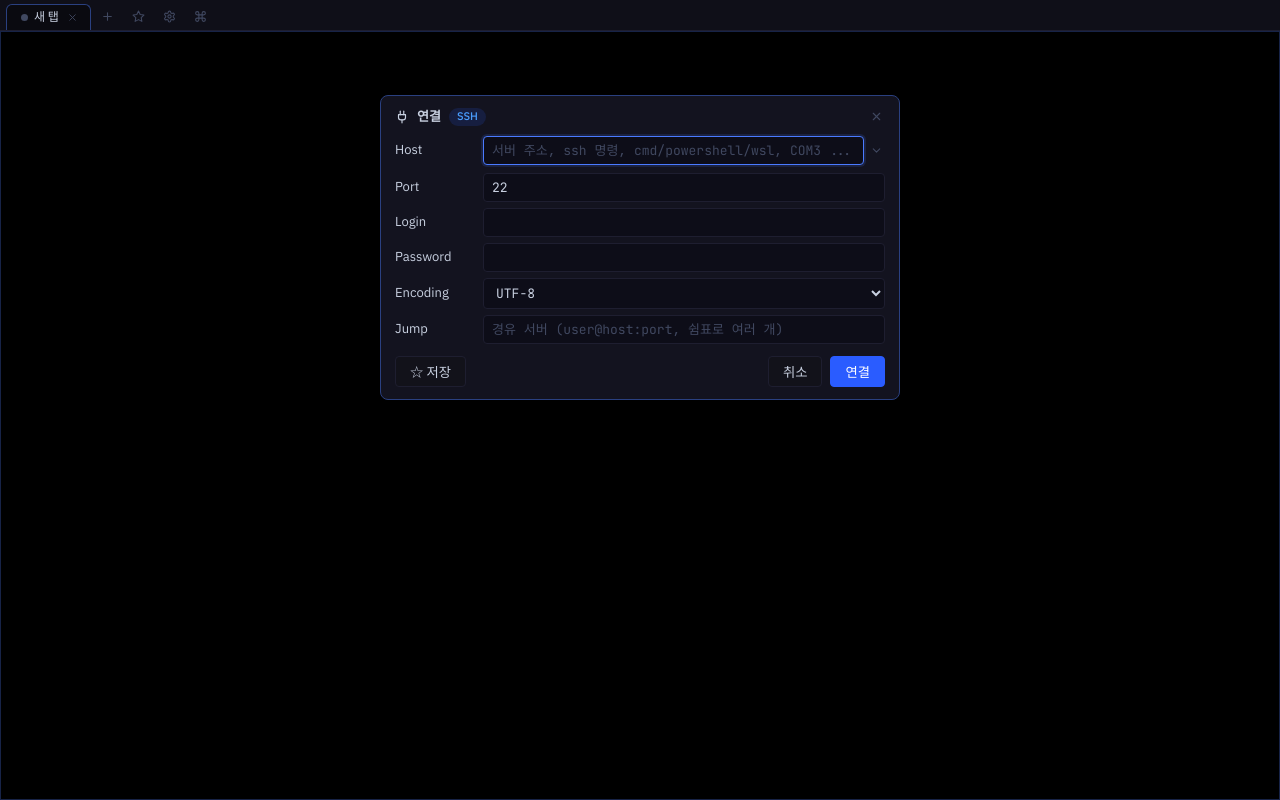
Test: 세션 관리자 (SM) › SM-06: 복제 → "(복사)" 세션 저장 후 선택
Check: the field labelled "Host" is shown, box [483,136,864,165]
Press H in the element showing "새 탭 연결 SSH Host Port Login Password Encoding Jump ☆ 저장 취소 연결"
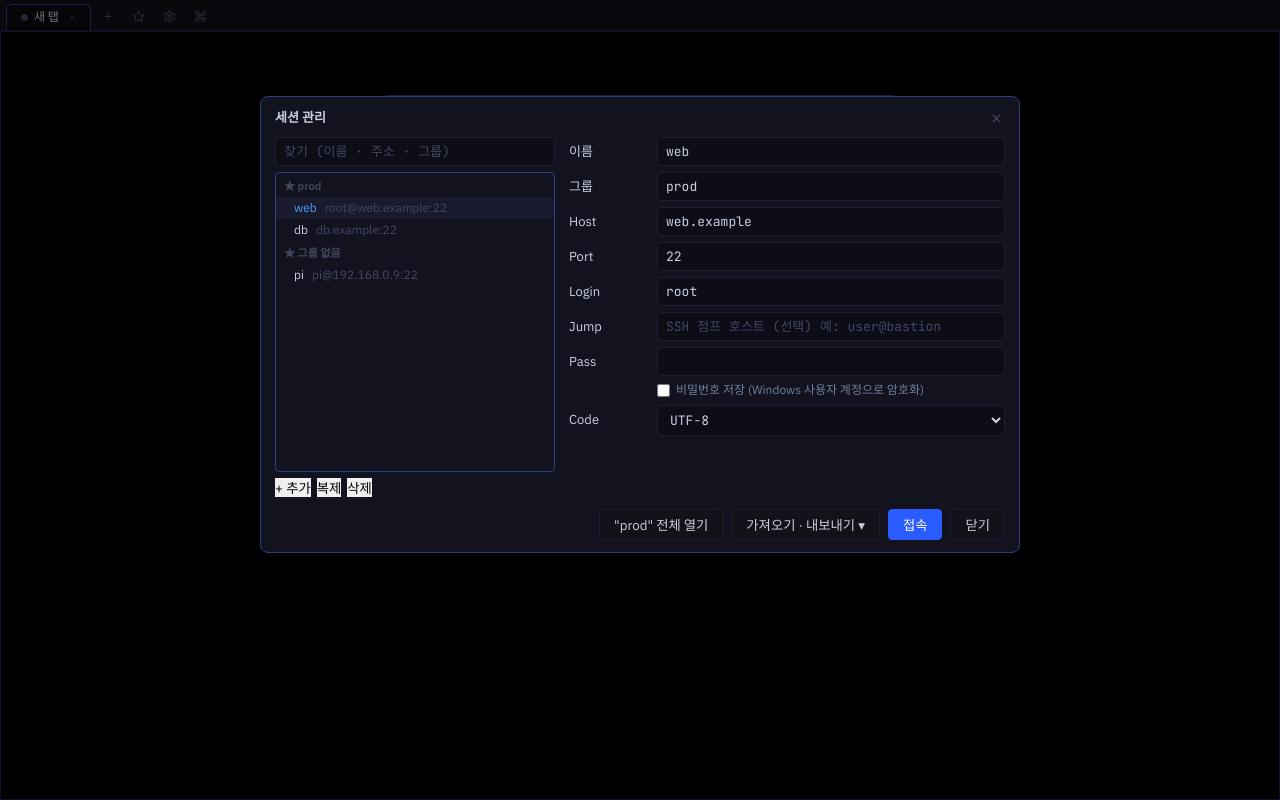
Check: the option "web root@web.example:22" is shown, box [276,197,554,219]
Click the button "복제".
click(329, 488)  # box [317,478,341,497]
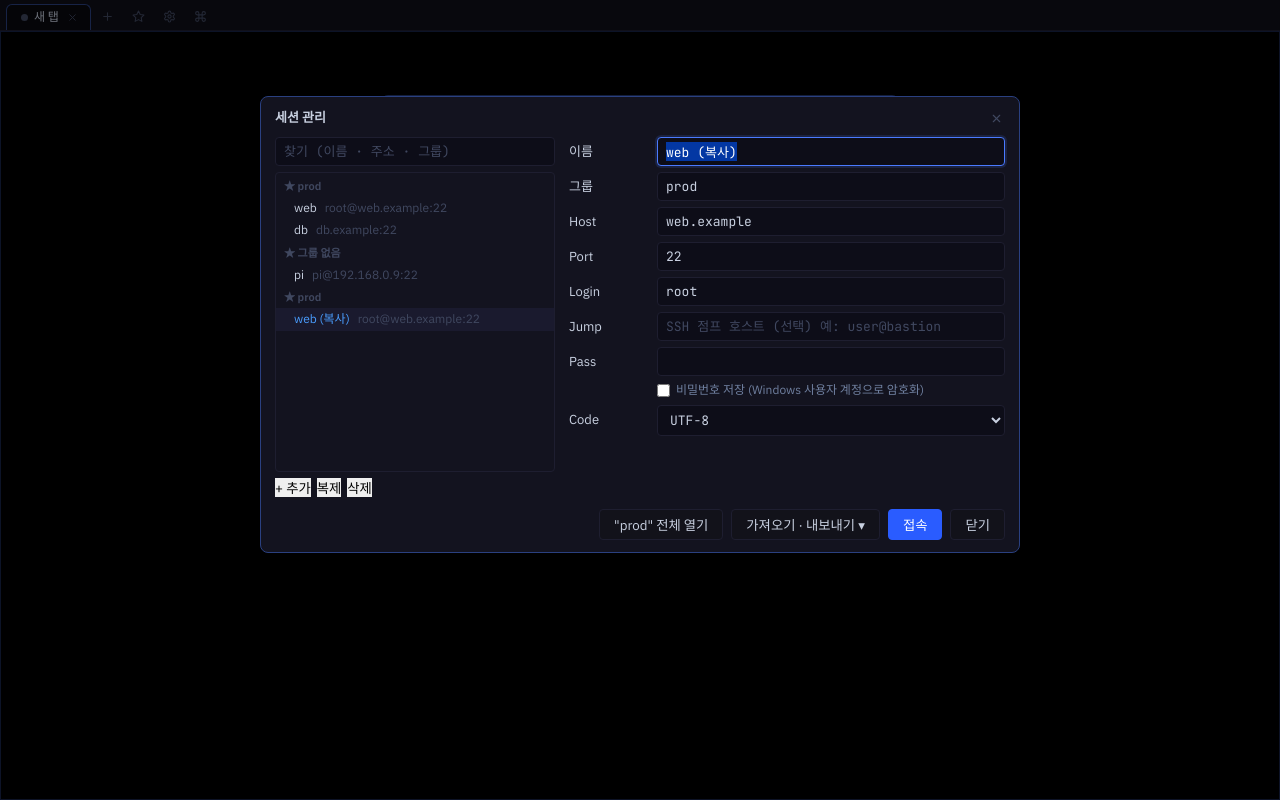
Check: the field labelled "이름" holds "web (복사)", box [657,137,1005,166]
